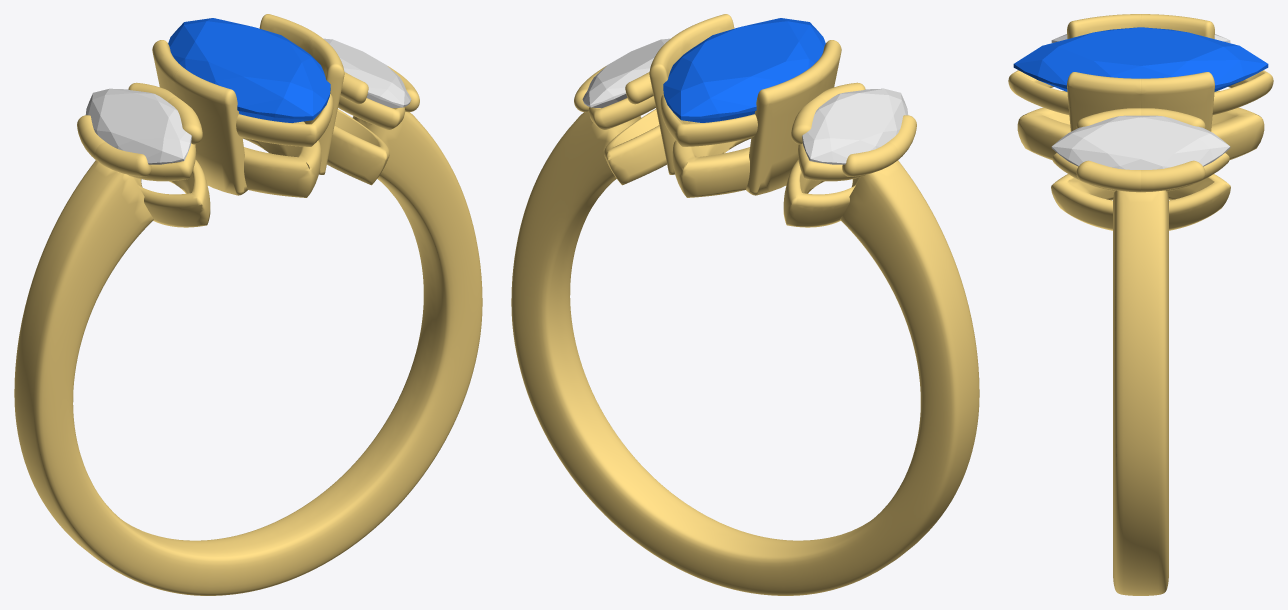
Rendered from bluesapphire-marquise-yellowgold-halfmoonbezel-straightband-3stone.glb.
3 renders of one model, left to right at view 1: azimuth 30°, elevation 25°; view 2: azimuth 150°, elevation 25°; view 3: azimuth 270°, elevation 25°, orthographic.
Visible parts, largest first — view 1: metal.003, stone.002, side.004, side.005; view 2: metal.003, stone.002, side.004, side.005; view 3: metal.003, stone.002, side.005.
Boxes of the visible parts, box(x1,y1,x2,y2) form: metal.003: box(14, 14, 482, 595); stone.002: box(168, 18, 330, 122); side.004: box(85, 88, 191, 164); side.005: box(323, 38, 411, 108); metal.003: box(511, 14, 979, 595); stone.002: box(663, 18, 825, 122); side.004: box(802, 88, 908, 164); side.005: box(582, 38, 670, 108); metal.003: box(1008, 14, 1273, 595); stone.002: box(1013, 27, 1268, 91); side.005: box(1051, 115, 1230, 169).
Size of the model in its own units: 20.11 by 22.73 by 10.4.
